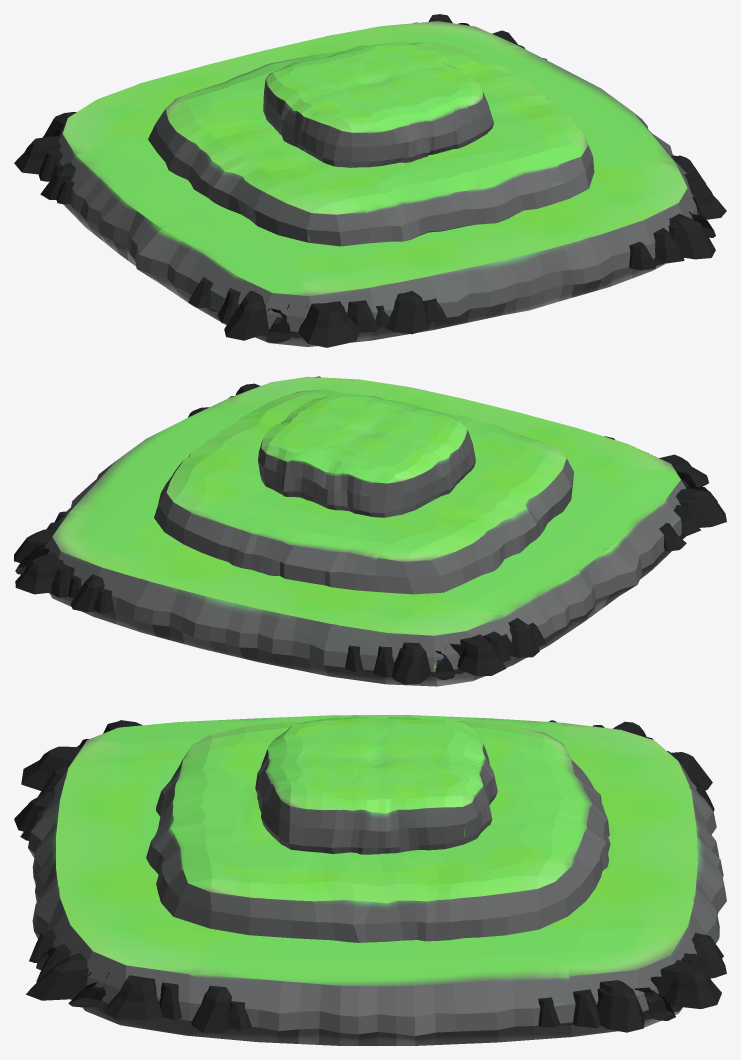
File: island.obj
3 renders of one model, top to bottom at view 1: azimuth 30°, elevation 25°; view 2: azimuth 150°, elevation 25°; view 3: azimuth 270°, elevation 25°, orthographic. The views are drawn at different scales.
Parts seen in each view (by area): view 1: Cube, Cube.003_Cube.001, Cube.005_Cube.002, Cube.002_Cube.044, Cube.001_Cube.043, Cube.012_Cube.042; view 2: Cube, Cube.003_Cube.001, Cube.005_Cube.002, Cube.012_Cube.042, Cube.004_Cube.046, Cube.002_Cube.044; view 3: Cube, Cube.003_Cube.001, Cube.005_Cube.002, Cube.001_Cube.043, Cube.004_Cube.046, Cube.002_Cube.044, Cube.012_Cube.042.
Part boxes in pixels (box(x1,y1,x2,y2)): Cube: box(58, 21, 697, 346); Cube.003_Cube.001: box(148, 42, 594, 246); Cube.005_Cube.002: box(263, 41, 493, 167); Cube.002_Cube.044: box(188, 277, 446, 347); Cube.001_Cube.043: box(629, 155, 726, 270); Cube.012_Cube.042: box(14, 112, 76, 204); Cube: box(44, 376, 686, 686); Cube.003_Cube.001: box(154, 389, 573, 594); Cube.005_Cube.002: box(258, 393, 475, 517); Cube.012_Cube.042: box(345, 618, 545, 684); Cube.004_Cube.046: box(14, 511, 113, 613); Cube.002_Cube.044: box(604, 436, 726, 551); Cube: box(28, 715, 726, 1045); Cube.003_Cube.001: box(146, 721, 610, 942); Cube.005_Cube.002: box(255, 716, 497, 854); Cube.001_Cube.043: box(26, 929, 251, 1032); Cube.004_Cube.046: box(538, 933, 726, 1032); Cube.002_Cube.044: box(14, 720, 142, 840); Cube.012_Cube.042: box(549, 720, 714, 811).
Size of the model in its own units: 40.16 by 9.84 by 40.44.
